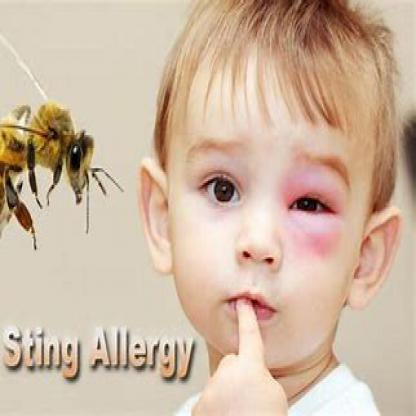Wasp: (276, 159, 348, 255)
